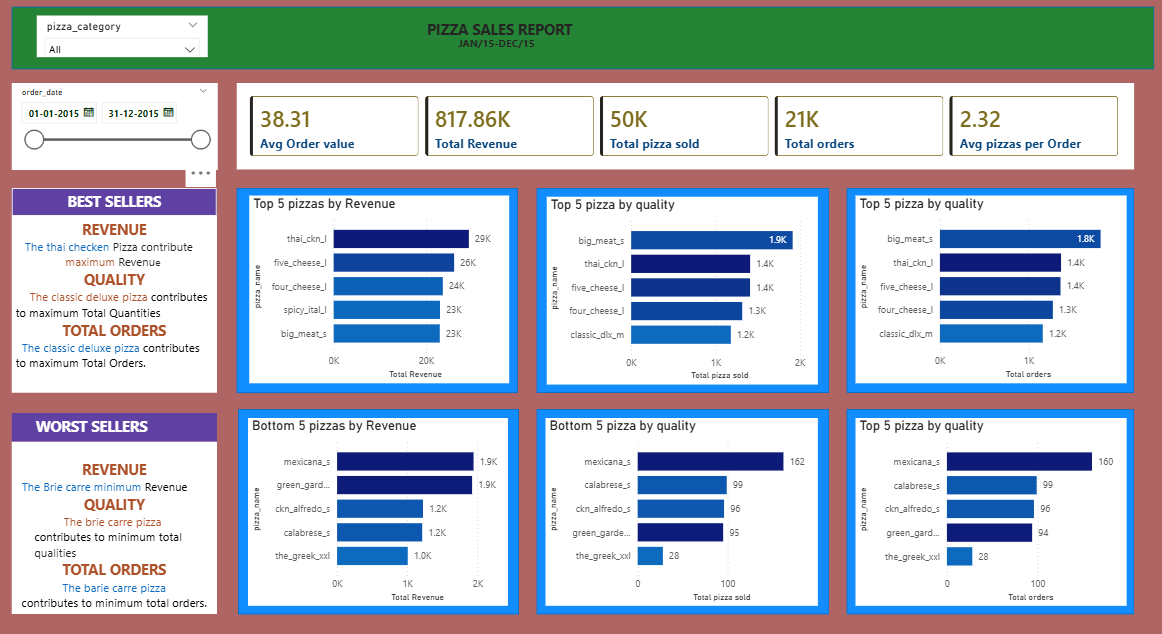

The dashboard page shown, as its layout file describes it:
{"tool":"powerbi","page":{"name":"Duplicate of Page 1","canvas":[1500,820],"ordinal":1},"visuals":[{"type":"cardVisual","fields":{"Data":["public pizza_sales.Avg Order value","public pizza_sales.Total Revenue","public pizza_sales.Total pizza sold","public pizza_sales.Total orders","public pizza_sales.Avg pizzas per Order"]},"box":[307.8,108.5,1154.2,111.3],"z":0},{"type":"shape","box":[17.7,11.3,1469.8,80.4],"z":1000},{"type":"textbox","box":[546.9,22,203.4,44],"z":2000},{"type":"textbox","box":[586.7,44,116.8,31.6],"z":3000},{"type":"textbox","box":[17.7,244.4,263.7,35.4],"z":4000},{"type":"textbox","box":[17.7,279.8,263.7,228.3],"z":5000},{"type":"textbox","box":[17.7,533.9,263.7,37],"z":7000},{"type":"textbox","box":[17.7,570.9,263.7,221.9],"z":8000},{"type":"slicer","fields":{"Values":["public pizza_sales.pizza_category"]},"box":[49.5,22,219.8,53.6],"z":9000},{"type":"slicer","fields":{"Values":["public pizza_sales.order_date"]},"box":[17.7,109.3,263.7,111],"z":10000},{"type":"shape","box":[307.8,244.6,361.4,263.8],"z":11000},{"type":"shape","box":[693.1,244.4,376.3,263.7],"z":12000},{"type":"shape","box":[1091.9,244.4,369.9,263.7],"z":13000},{"type":"shape","box":[309.2,529,361.4,263.8],"z":14000},{"type":"shape","box":[1091.9,529.1,369.9,263.7],"z":15000},{"type":"shape","box":[693.1,529.1,376.3,263.7],"z":16000},{"type":"barChart","title":"Top 5 pizzas by Revenue","fields":{"Category":["public pizza_sales.pizza_name"],"Y":["public pizza_sales.Total Revenue"]},"box":[323.2,254.1,334.5,241.2],"z":17000},{"type":"barChart","title":"Bottom 5 pizzas by Revenue","fields":{"Category":["public pizza_sales.pizza_name"],"Y":["public pizza_sales.Total Revenue"]},"box":[321.6,540.3,334.5,241.2],"z":18000},{"type":"barChart","title":"Top 5 pizza by quality","fields":{"Category":["public pizza_sales.pizza_name"],"Y":["public pizza_sales.Total pizza sold"]},"box":[705.9,255.7,349,241.2],"z":19000},{"type":"barChart","title":"Bottom 5 pizza by quality","fields":{"Category":["public pizza_sales.pizza_name"],"Y":["public pizza_sales.Total pizza sold"]},"box":[704.3,540.3,350.6,241.2],"z":20000},{"type":"barChart","title":"Top 5 pizza by quality","fields":{"Category":["public pizza_sales.pizza_name"],"Y":["public pizza_sales.Total orders"]},"box":[1103.1,254.1,349,241.2],"z":21000},{"type":"barChart","title":"Top 5 pizza by quality","fields":{"Category":["public pizza_sales.pizza_name"],"Y":["public pizza_sales.Total orders"]},"box":[1103.3,540,349,241.8],"z":22000}]}

Visuals, with their boxes in screenshot pixels (x1, y1, x2, y2), scaled from the page's 1500x820 canvas onto the 1162x634 screenshot:
cardVisual - public pizza_sales.Avg Order value x public pizza_sales.Total Revenue: (x1=238, y1=84, x2=1133, y2=170)
shape: (x1=14, y1=9, x2=1152, y2=71)
textbox: (x1=424, y1=17, x2=581, y2=51)
textbox: (x1=454, y1=34, x2=545, y2=58)
textbox: (x1=14, y1=189, x2=218, y2=216)
textbox: (x1=14, y1=216, x2=218, y2=393)
textbox: (x1=14, y1=413, x2=218, y2=441)
textbox: (x1=14, y1=441, x2=218, y2=613)
slicer - public pizza_sales.pizza_category: (x1=38, y1=17, x2=209, y2=58)
slicer - public pizza_sales.order_date: (x1=14, y1=85, x2=218, y2=170)
shape: (x1=238, y1=189, x2=518, y2=393)
shape: (x1=537, y1=189, x2=828, y2=393)
shape: (x1=846, y1=189, x2=1132, y2=393)
shape: (x1=240, y1=409, x2=519, y2=613)
shape: (x1=846, y1=409, x2=1132, y2=613)
shape: (x1=537, y1=409, x2=828, y2=613)
"Top 5 pizzas by Revenue" barChart: (x1=250, y1=196, x2=509, y2=383)
"Bottom 5 pizzas by Revenue" barChart: (x1=249, y1=418, x2=508, y2=604)
"Top 5 pizza by quality" barChart: (x1=547, y1=198, x2=817, y2=384)
"Bottom 5 pizza by quality" barChart: (x1=546, y1=418, x2=817, y2=604)
"Top 5 pizza by quality" barChart: (x1=855, y1=196, x2=1125, y2=383)
"Top 5 pizza by quality" barChart: (x1=855, y1=418, x2=1125, y2=604)
